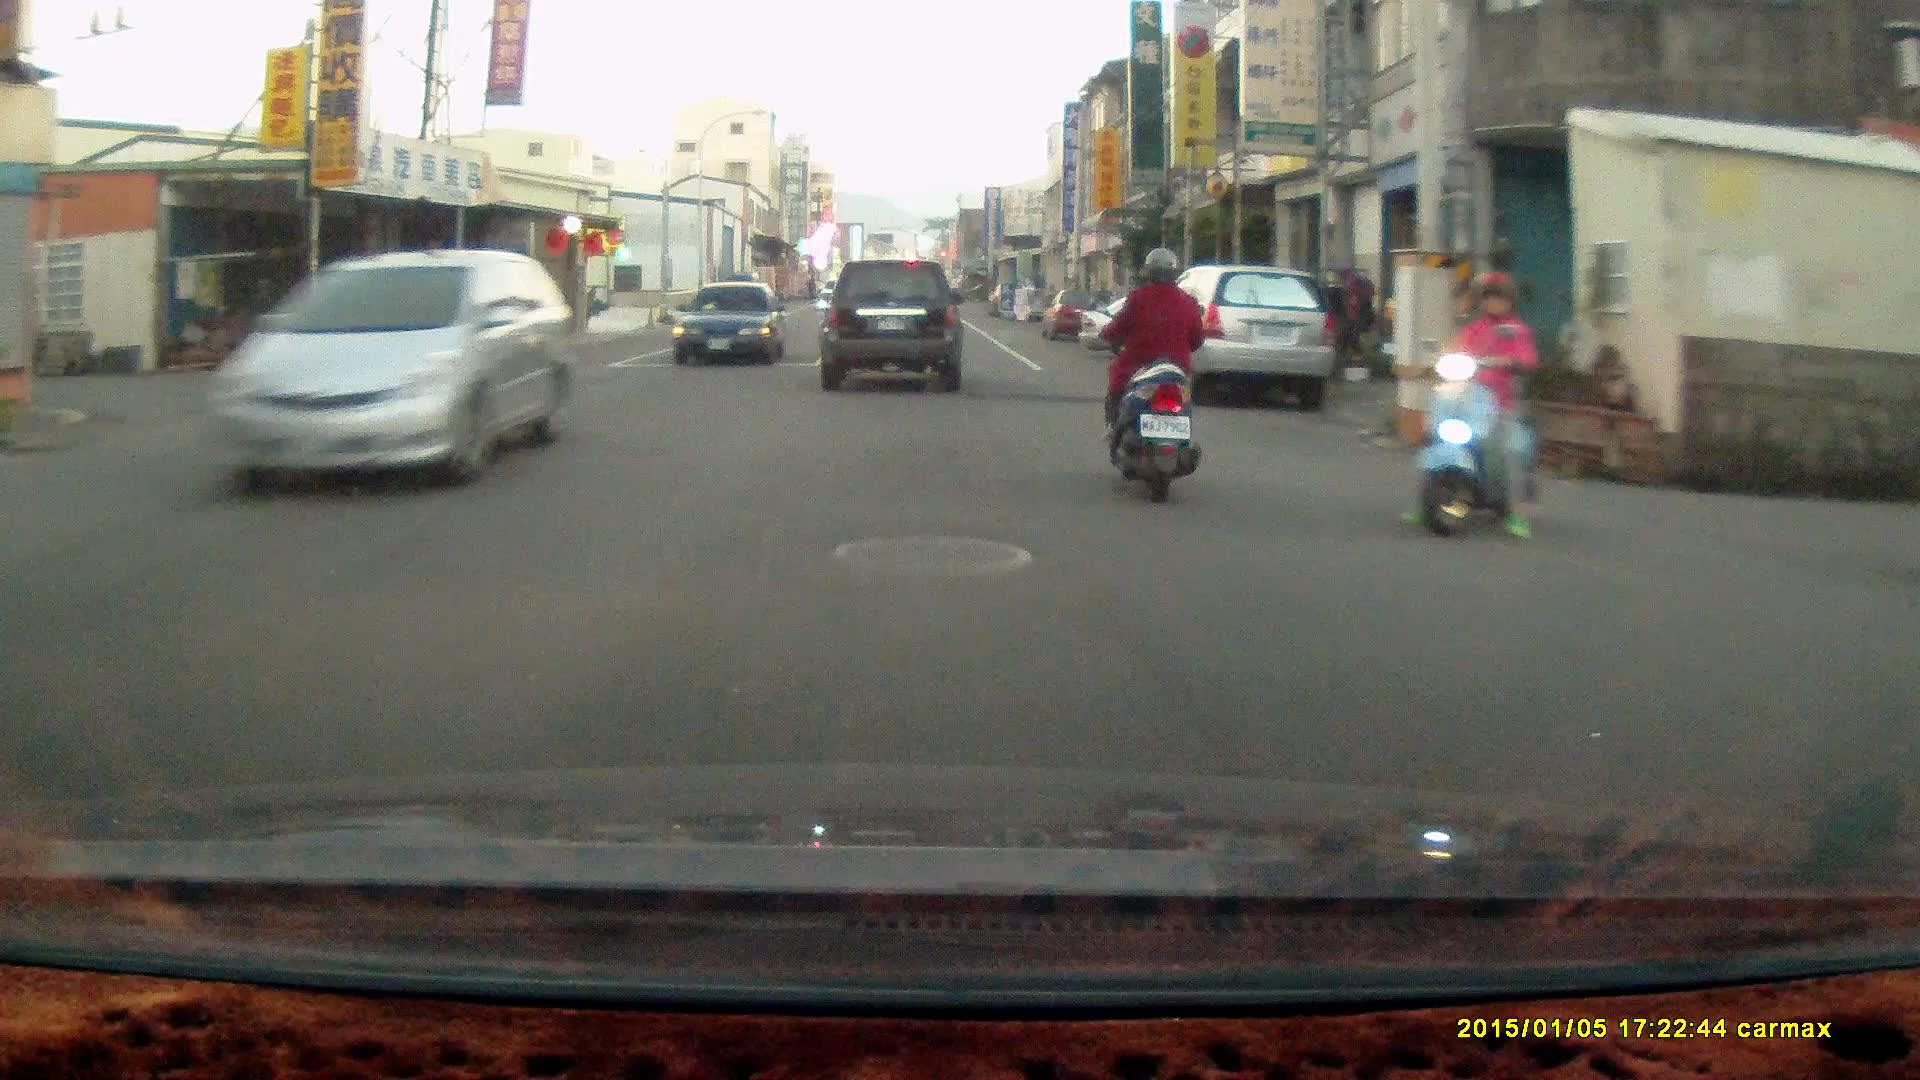rider: (1394, 268, 1538, 537), (1101, 242, 1202, 505)
vehicle: (209, 243, 580, 495), (1141, 262, 1335, 407), (820, 257, 965, 396), (1081, 283, 1262, 359), (678, 280, 790, 368)
